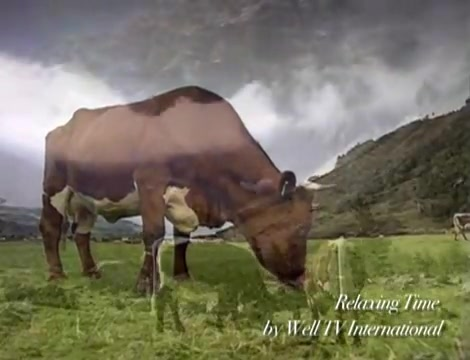cow: (40, 83, 337, 297)
